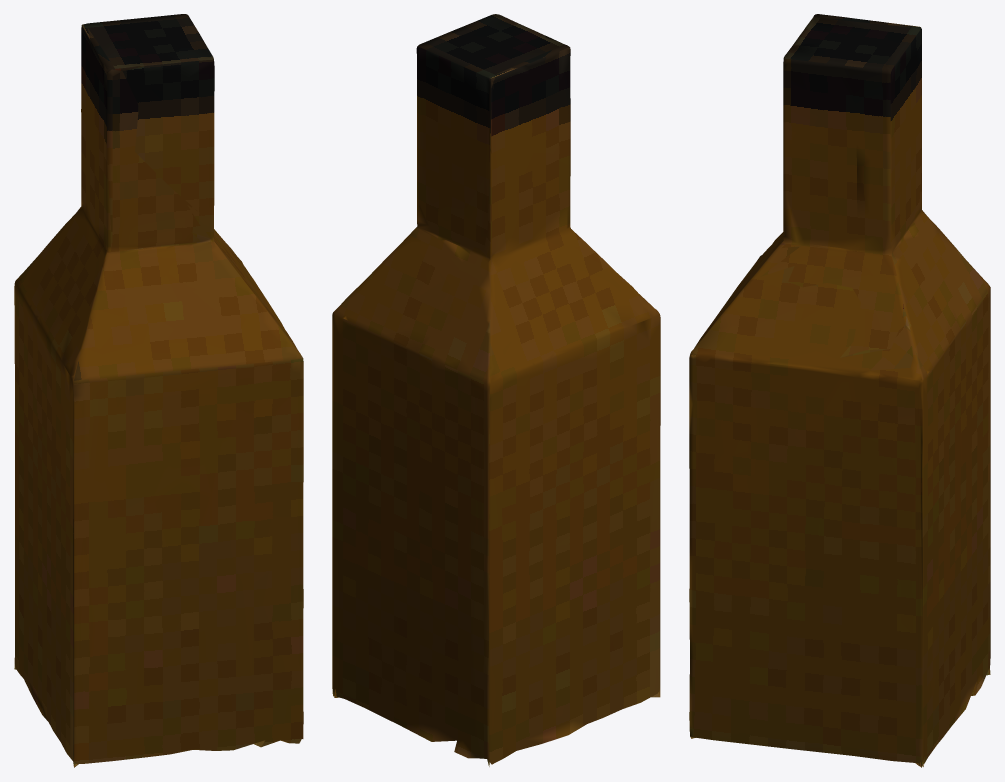
The model's file is tavern_bottle_05_psx.glb.
3 views of the same model, side by side, from view 1: azimuth 30°, elevation 25°; view 2: azimuth 150°, elevation 25°; view 3: azimuth 270°, elevation 25° (orthographic).
Visible parts, largest first — view 1: tavern_bottle_05_psx; view 2: tavern_bottle_05_psx; view 3: tavern_bottle_05_psx.
Boxes of the visible parts, x1,y1,x2,y2 form: tavern_bottle_05_psx: (14, 14, 303, 767); tavern_bottle_05_psx: (332, 14, 660, 766); tavern_bottle_05_psx: (689, 14, 990, 767).
Bounding box in the file's own units: 0.1093 × 0.2775 × 0.1141.
1 material, 1 textured.
